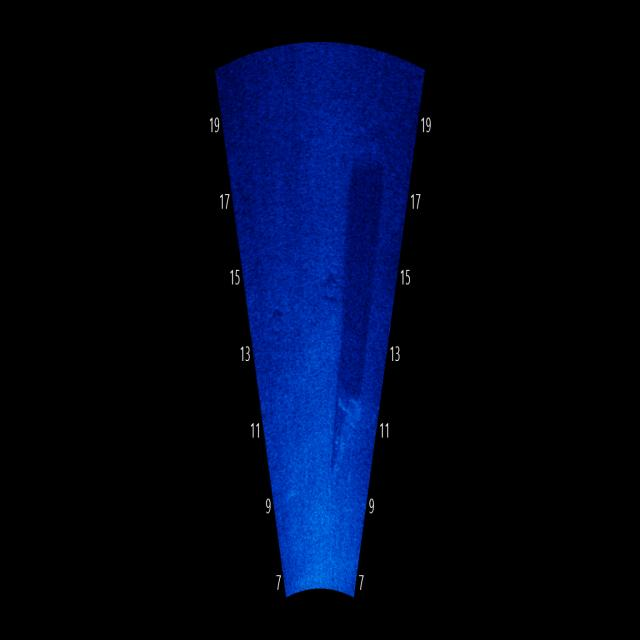circle: (321, 266, 341, 313), (264, 308, 288, 343)
triangle: (329, 386, 364, 483)
